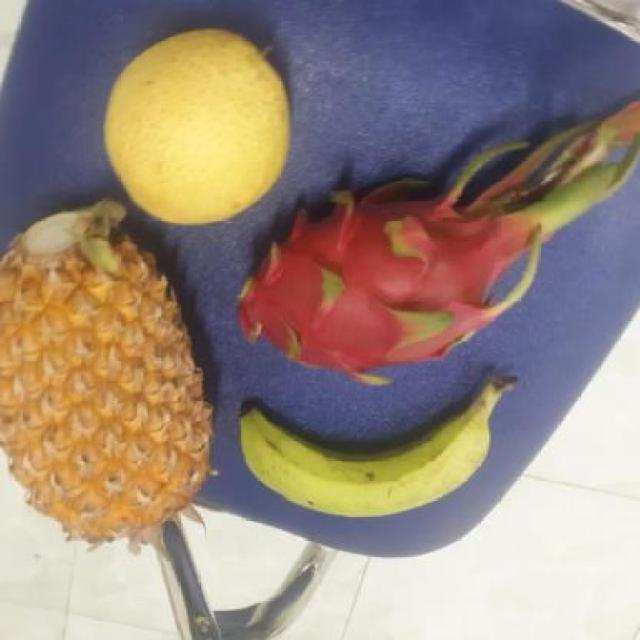banana: (228, 368, 500, 512)
dragon fruit: (213, 198, 519, 378)
guava: (90, 30, 292, 227)
pineapple: (0, 204, 212, 541)
